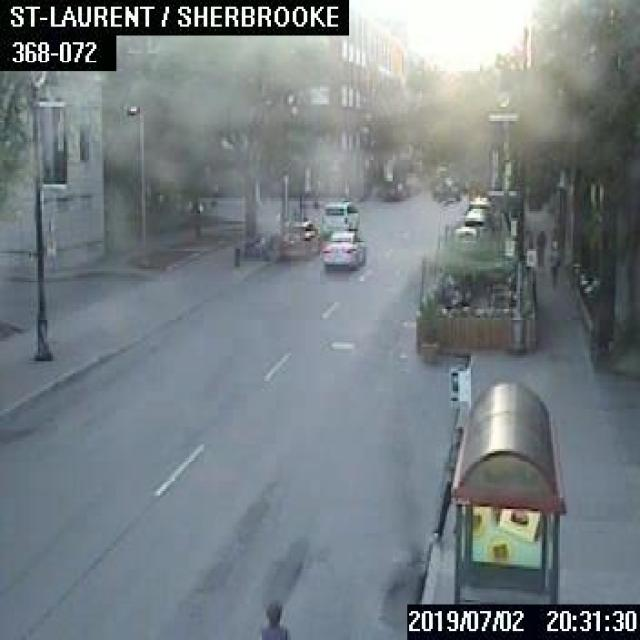pedestrian: (259, 600, 287, 638), (548, 237, 560, 284), (536, 228, 544, 264)
vehicle: (320, 230, 364, 267), (278, 218, 320, 256), (322, 200, 358, 229), (451, 225, 479, 247), (433, 175, 458, 198), (463, 206, 488, 229), (468, 193, 490, 210)
